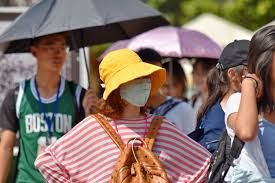no-mask: (30, 37, 72, 77)
with-mask: (115, 67, 156, 110)
